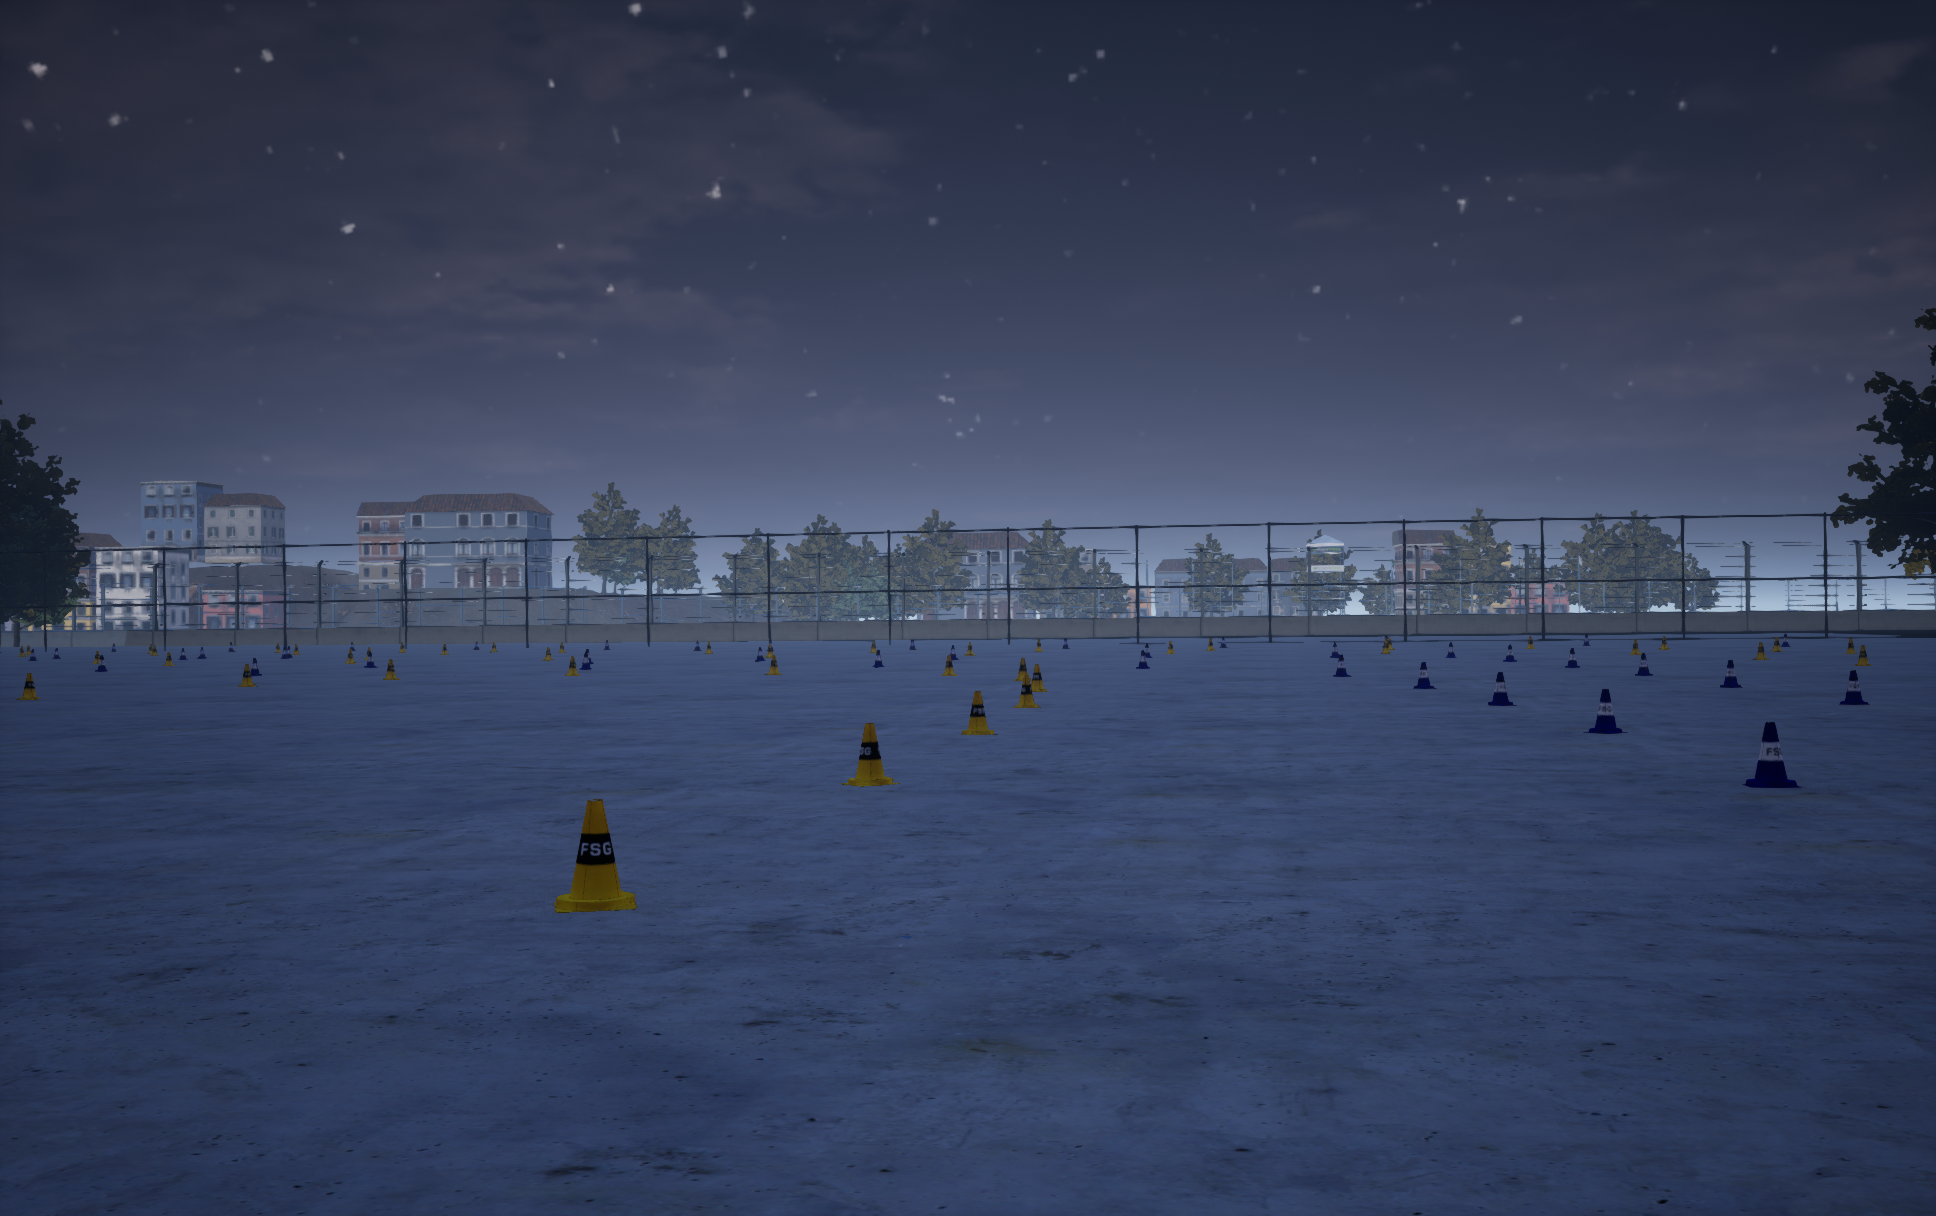blue: (553, 799, 636, 912), (841, 723, 899, 786), (961, 691, 997, 734), (1011, 675, 1039, 707), (15, 672, 39, 699), (1031, 664, 1046, 691), (238, 664, 256, 686), (382, 658, 399, 679), (1014, 658, 1031, 679), (763, 656, 782, 674), (1855, 644, 1870, 665), (941, 656, 955, 675), (565, 656, 579, 675)
yellow: (1743, 721, 1802, 787), (1583, 689, 1626, 733), (1839, 670, 1869, 705), (1488, 672, 1516, 705), (1720, 660, 1743, 686), (1413, 663, 1436, 688), (1635, 653, 1652, 675), (1334, 654, 1350, 677), (1565, 649, 1579, 667), (1136, 650, 1149, 668)
